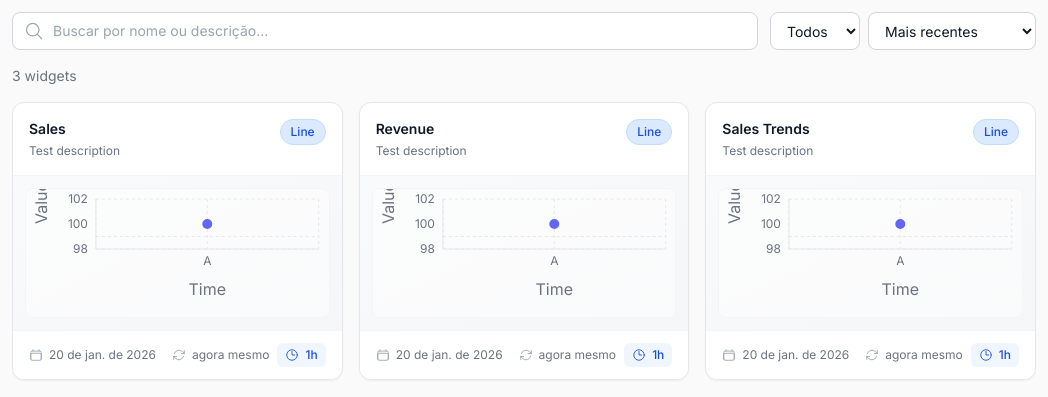
Scenario: WidgetList › Filtered Results Count › should show filtered count when filters applied
The image size is (1048, 397).
Type "Sales" into the field with placeholder "Buscar por nome ou descrição..." at (385, 31), box [12, 12, 758, 50]
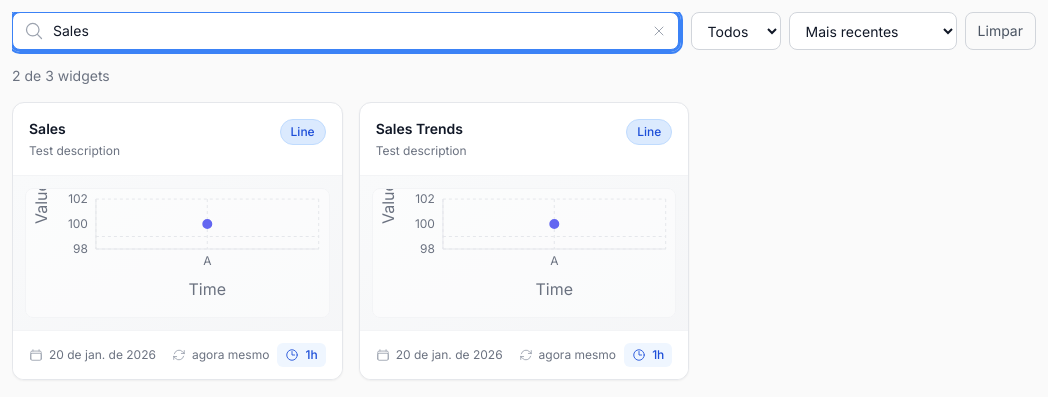
Check: the text "2 de 3 widgets" is shown, box [12, 66, 110, 86]
